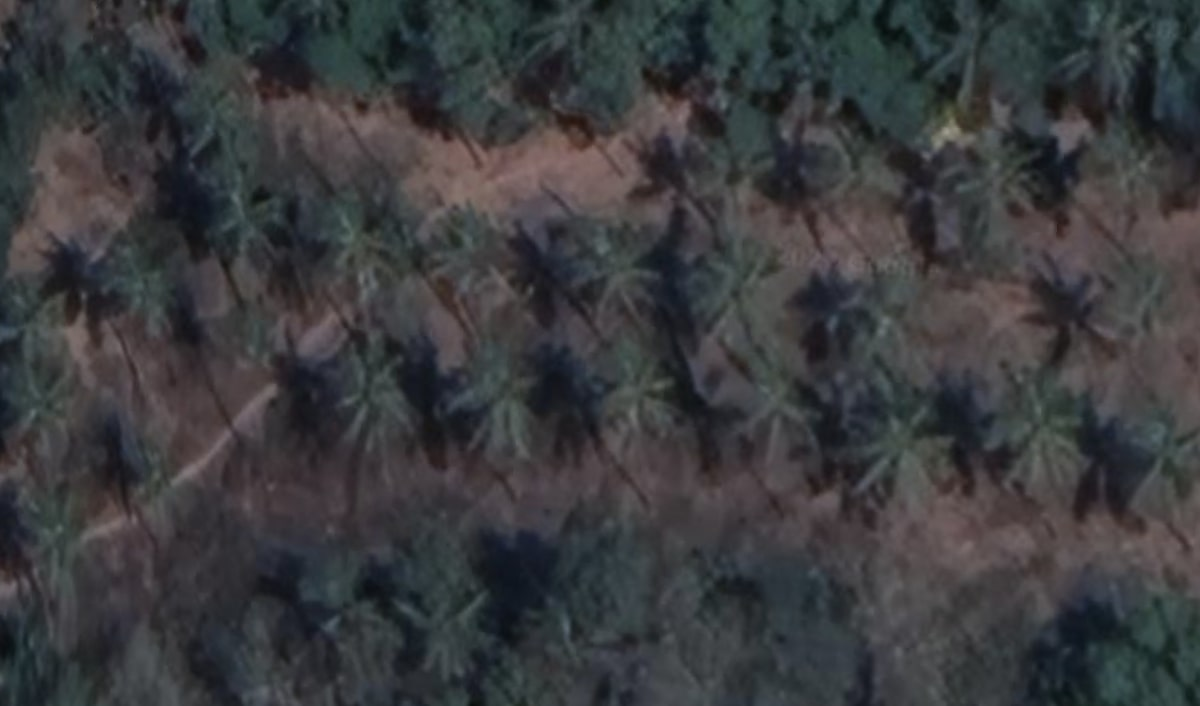coconut: (967, 370, 1096, 507), (420, 321, 535, 466), (835, 398, 956, 522), (942, 132, 1056, 256), (396, 573, 503, 694), (585, 332, 688, 446), (312, 195, 404, 315), (696, 230, 792, 345), (316, 328, 409, 438), (1083, 239, 1177, 344), (573, 225, 664, 331), (2, 335, 84, 452), (189, 178, 292, 268), (1057, 5, 1149, 105)
